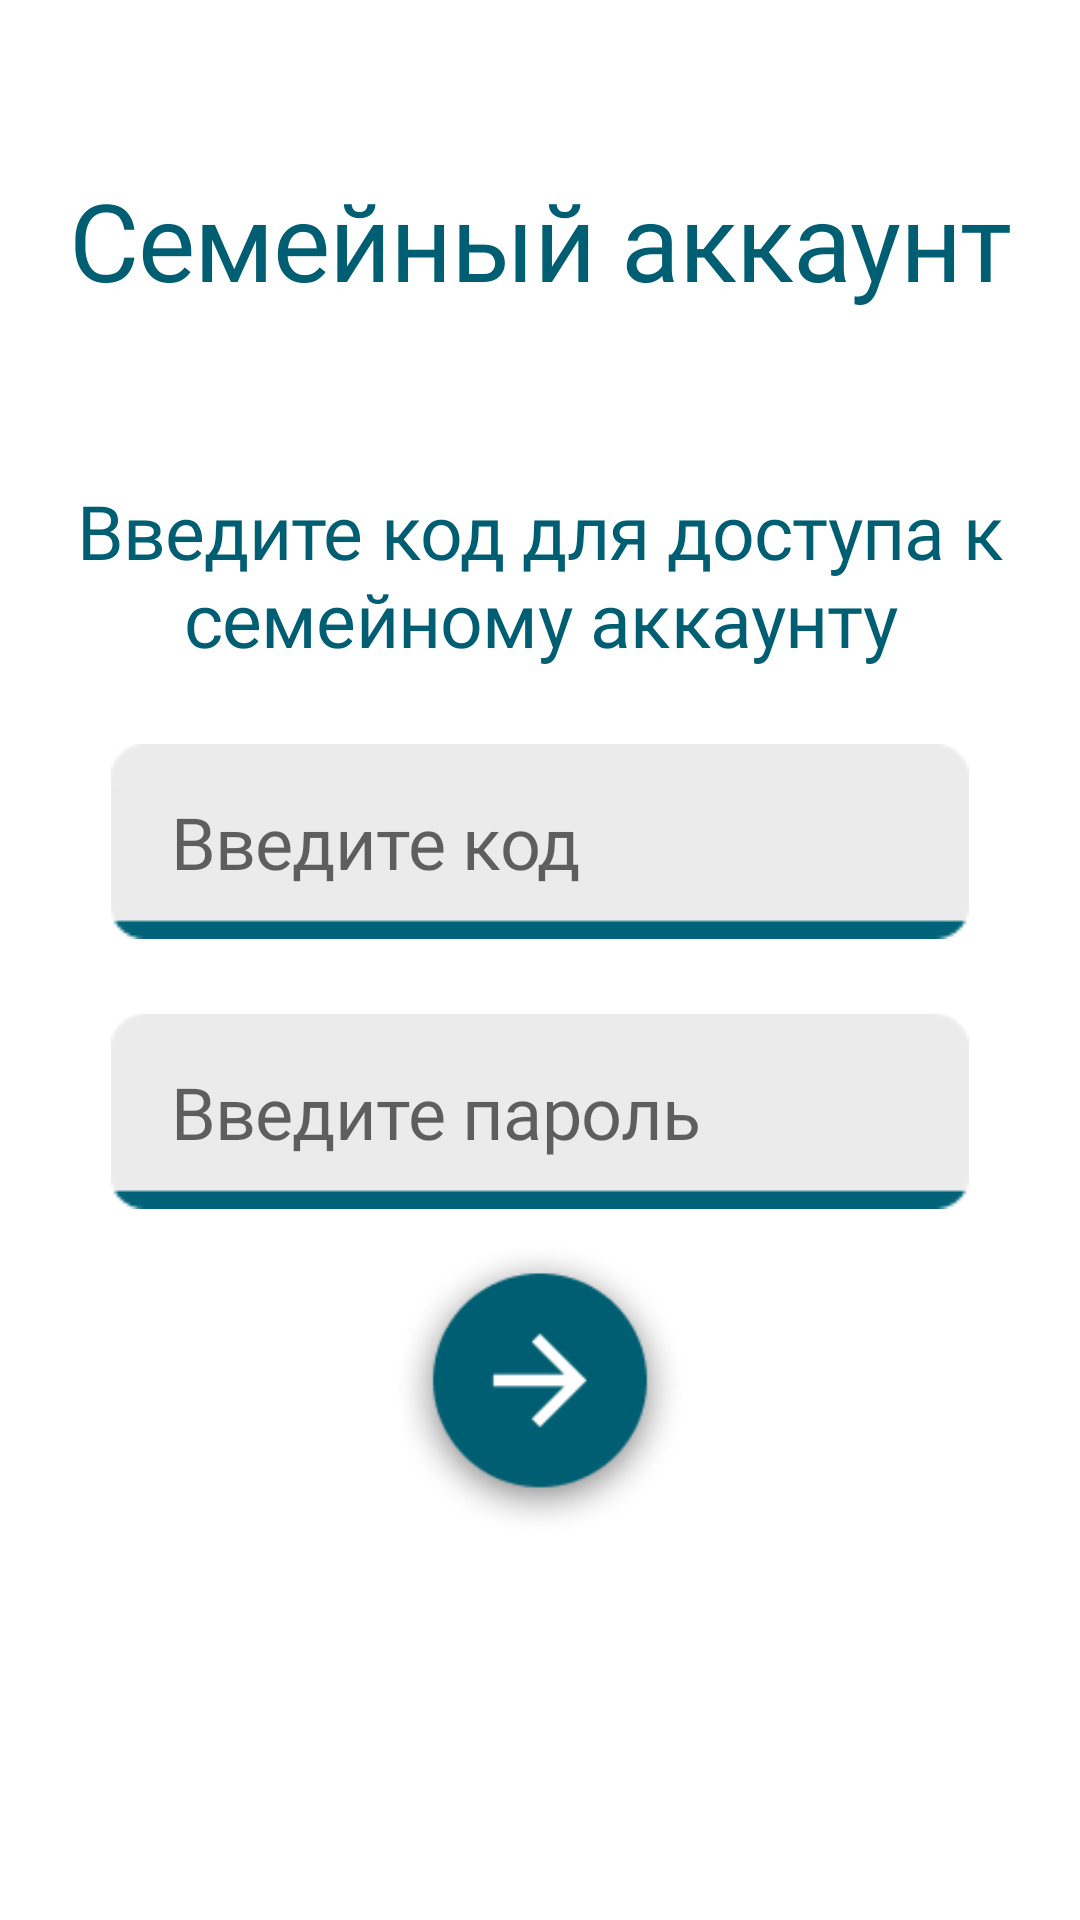

Locate icon controls on the screen. Image size 1080px×1920px, boxes as (x1, y1, x2, y2).
next: (418, 1267, 662, 1511)
